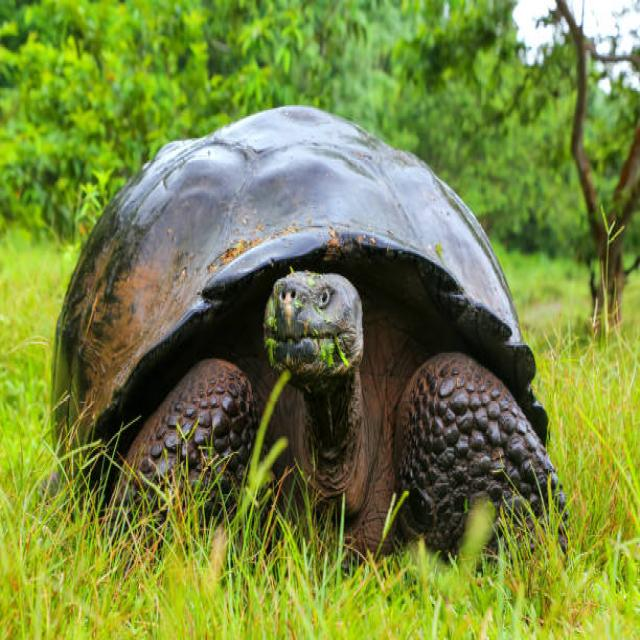tortoise: (39, 86, 590, 590), (373, 328, 612, 608), (260, 265, 372, 411)
